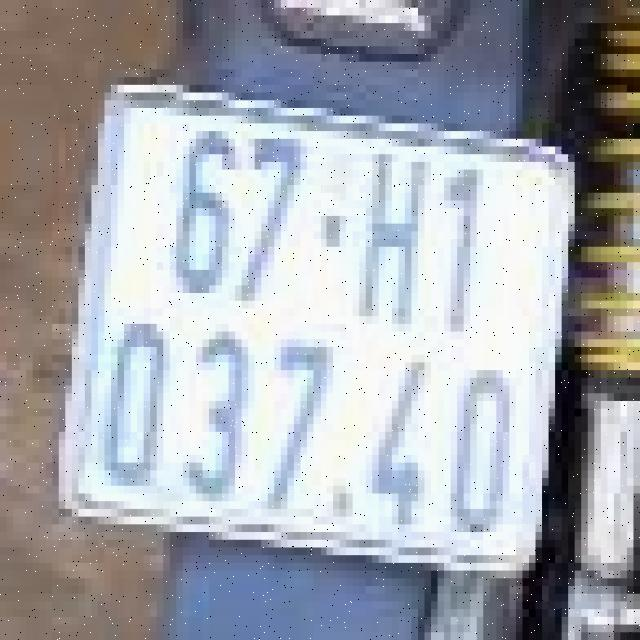0: (95, 308, 167, 486), (448, 366, 520, 536)
1: (431, 158, 496, 328)
3: (176, 320, 248, 520)
4: (353, 343, 431, 536)
6: (176, 112, 235, 297)
7: (258, 324, 330, 524), (238, 124, 310, 308)
H: (349, 138, 428, 332)
